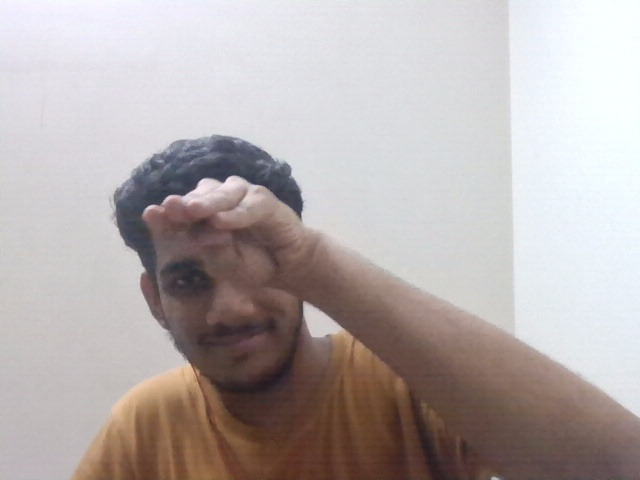no: (138, 158, 357, 317)
